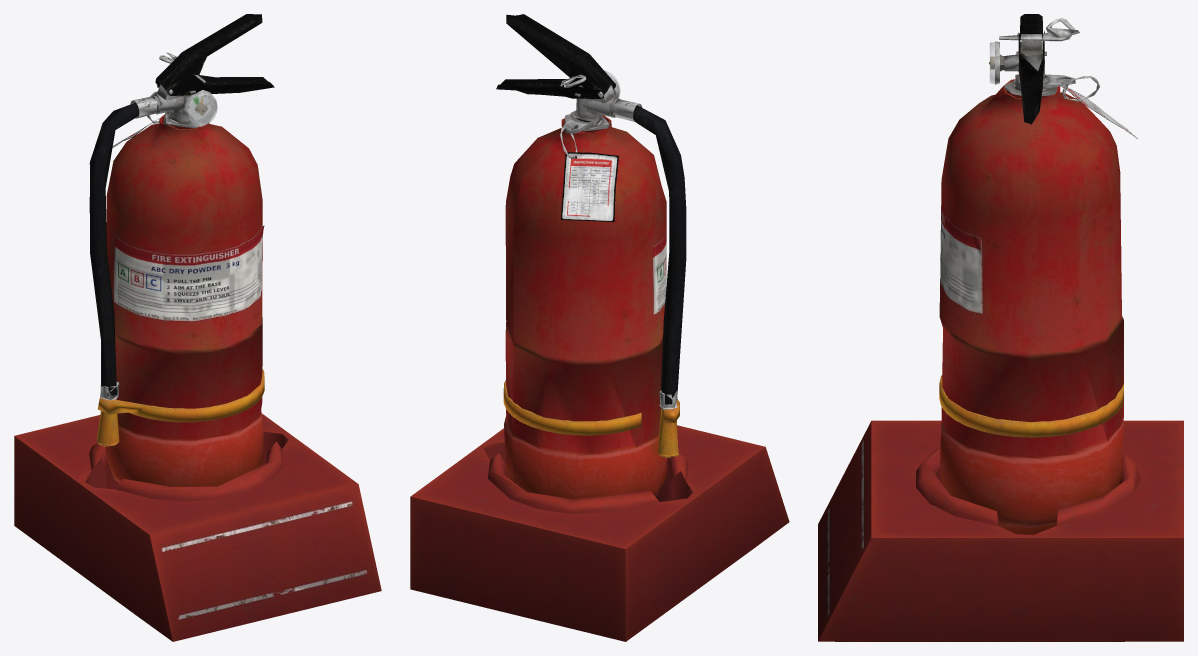
The model's file is FireExtinguisher_LOD1.obj.
3 views of the same model, side by side, from view 1: azimuth 30°, elevation 25°; view 2: azimuth 150°, elevation 25°; view 3: azimuth 270°, elevation 25° (orthographic). The views are drawn at different scales.
Visible parts, largest first — view 1: Body, GaugeGlass; view 2: Body, Tag; view 3: Body.
Part boxes in pixels (left/top/right/bottom): Body: left=14, top=14, right=381, bottom=641; GaugeGlass: left=185, top=92, right=217, bottom=126; Body: left=410, top=14, right=789, bottom=641; Tag: left=561, top=152, right=618, bottom=221; Body: left=818, top=14, right=1183, bottom=641.
Bounding box in the file's own units: 0.28 × 0.6591 × 0.3674.
Materials: 3 (2 with a texture image).
